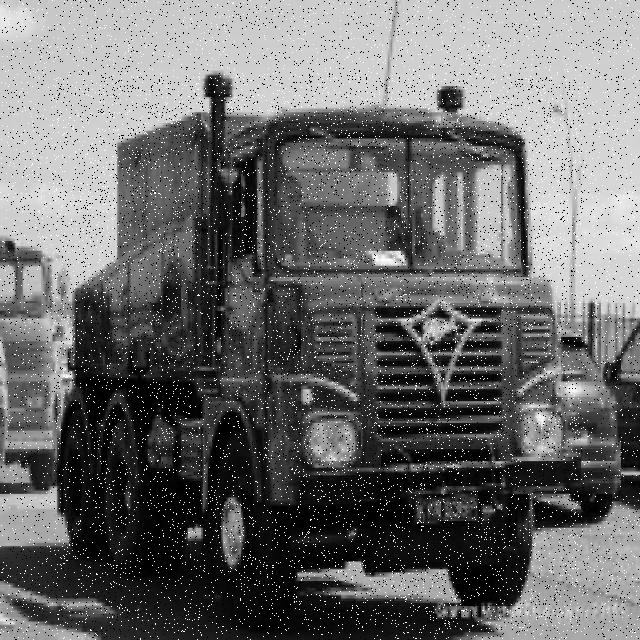Tow Truck: (56, 74, 582, 632)
